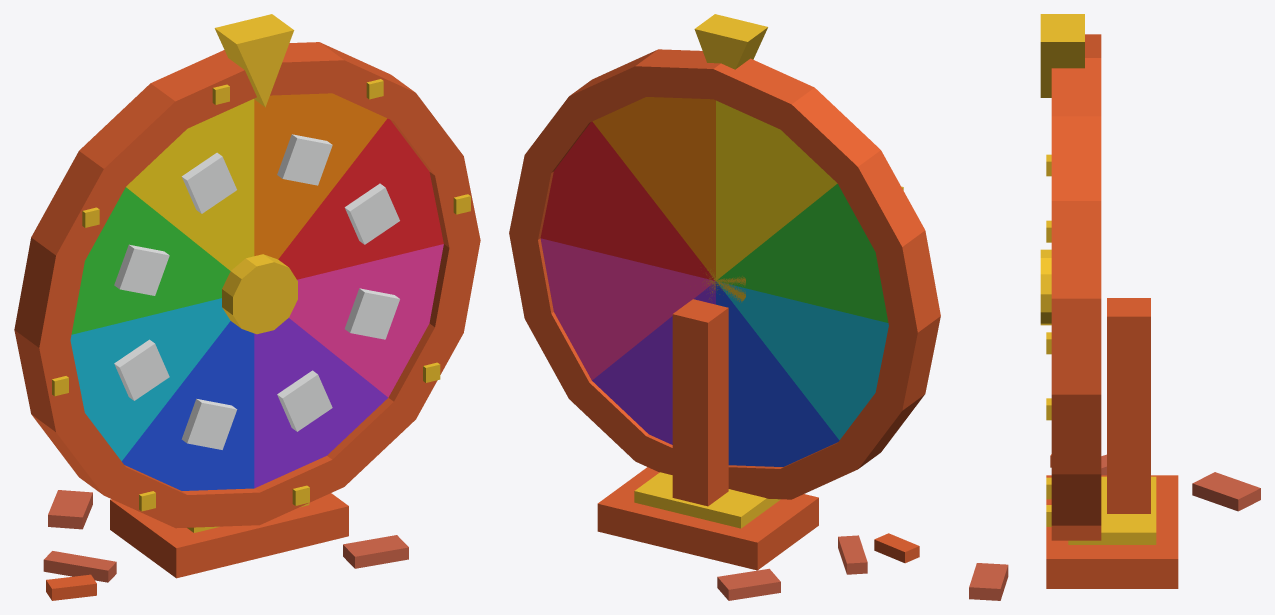
Rendered from SpinWheel.fbx.
3 renders of one model, left to right at view 1: azimuth 30°, elevation 25°; view 2: azimuth 150°, elevation 25°; view 3: azimuth 270°, elevation 25°, orthographic. The views are drawn at different scales.
Parts seen in each view (by area): view 1: WheelRim, White.007, WheelBlue, WheelRed, WheelPurple, WheelPink, WheelOrange.001, WheelCyan, Gold.002, WheelYellow, WheelGreen, Brick.001; view 2: WheelRim, WheelRed, WheelPink, WheelOrange.001, WheelCyan, WheelGreen, WheelYellow, WheelBlue, Gold.002, WheelPurple, Brick.001; view 3: WheelRim, Gold.002, Brick.001.
Boxes of the visible parts, x1,y1,x2,y2 form: WheelRim: (14,42,480,600); White.007: (114,134,399,449); WheelBlue: (122,321,254,490); WheelRed: (278,118,443,279); WheelPurple: (254,318,387,488); WheelPink: (289,244,443,397); WheelOrange.001: (254,93,387,259); WheelCyan: (70,298,230,461); Gold.002: (52,14,470,532); WheelYellow: (126,99,254,270); WheelGreen: (71,187,230,334); Brick.001: (43,490,408,582); WheelRim: (509,49,940,570); WheelRed: (540,121,714,280); WheelPink: (540,238,715,380); WheelOrange.001: (592,97,715,279); WheelCyan: (717,282,888,439); WheelGreen: (717,184,888,322); WheelYellow: (716,100,837,280); WheelBlue: (716,282,839,466); Gold.002: (634,14,903,528); WheelPurple: (592,281,715,444); Brick.001: (717,535,867,600); WheelRim: (1046,34,1178,588); Gold.002: (1040,14,1156,544); Brick.001: (969,454,1260,600).
Bounding box in the file's own units: 9.2 × 10.4 × 5.3.
